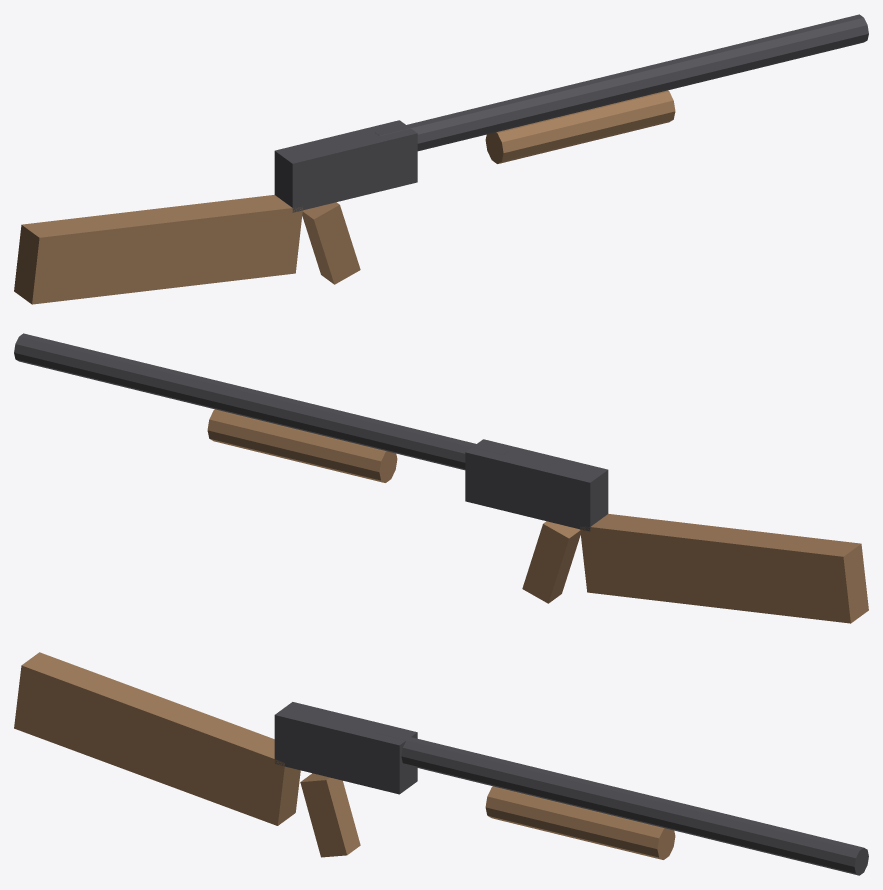
Rendered from shotgun.glb.
3 renders of one model, top to bottom at view 1: azimuth 30°, elevation 25°; view 2: azimuth 150°, elevation 25°; view 3: azimuth 330°, elevation 25°, orthographic.
Parts seen in each view (by area): view 1: Cylinder; view 2: Cylinder; view 3: Cylinder.
Boxes of the visible parts, x1,y1,x2,y2 form: Cylinder: [14, 14, 868, 304]; Cylinder: [14, 333, 868, 623]; Cylinder: [14, 652, 868, 875].
Size of the model in its own units: 1.07 by 0.1634 by 0.04.
